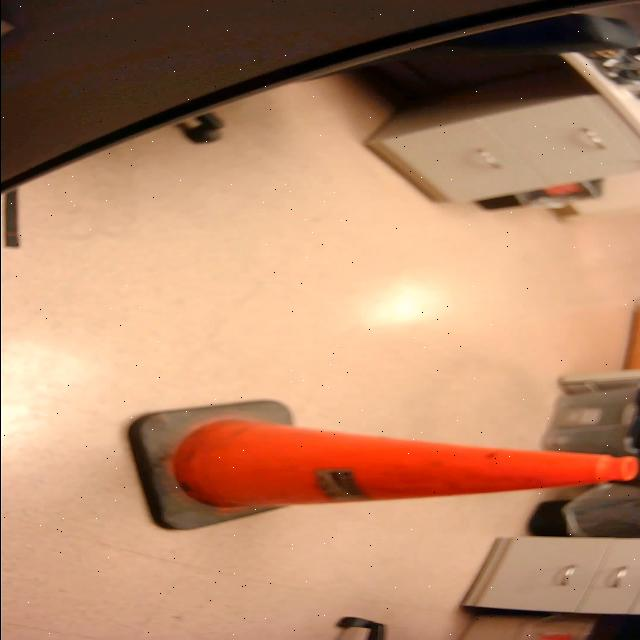traffic cone: (126, 395, 640, 534)
